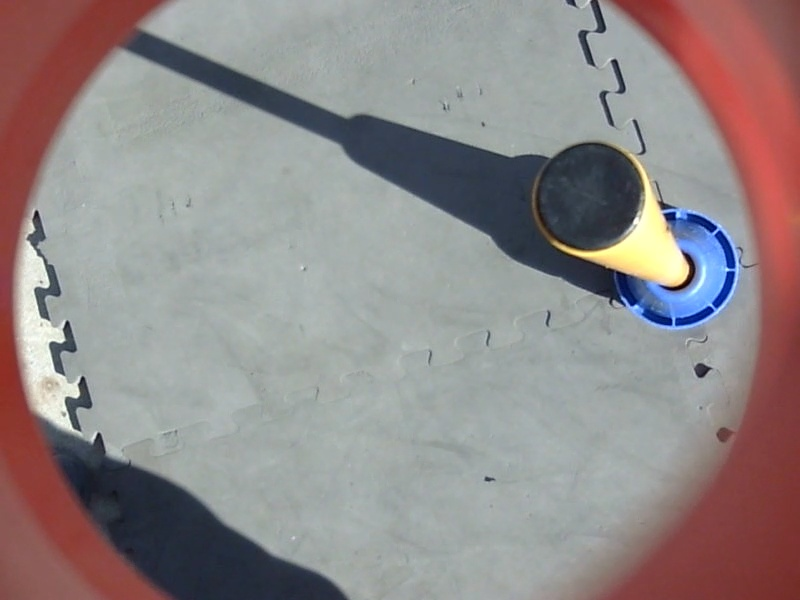tip: (527, 137, 652, 259)
